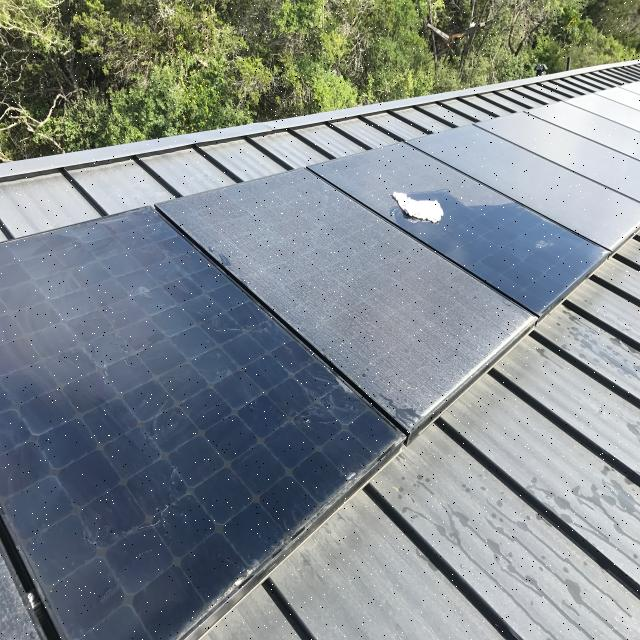dusty: (165, 169, 527, 408), (314, 145, 446, 201)
